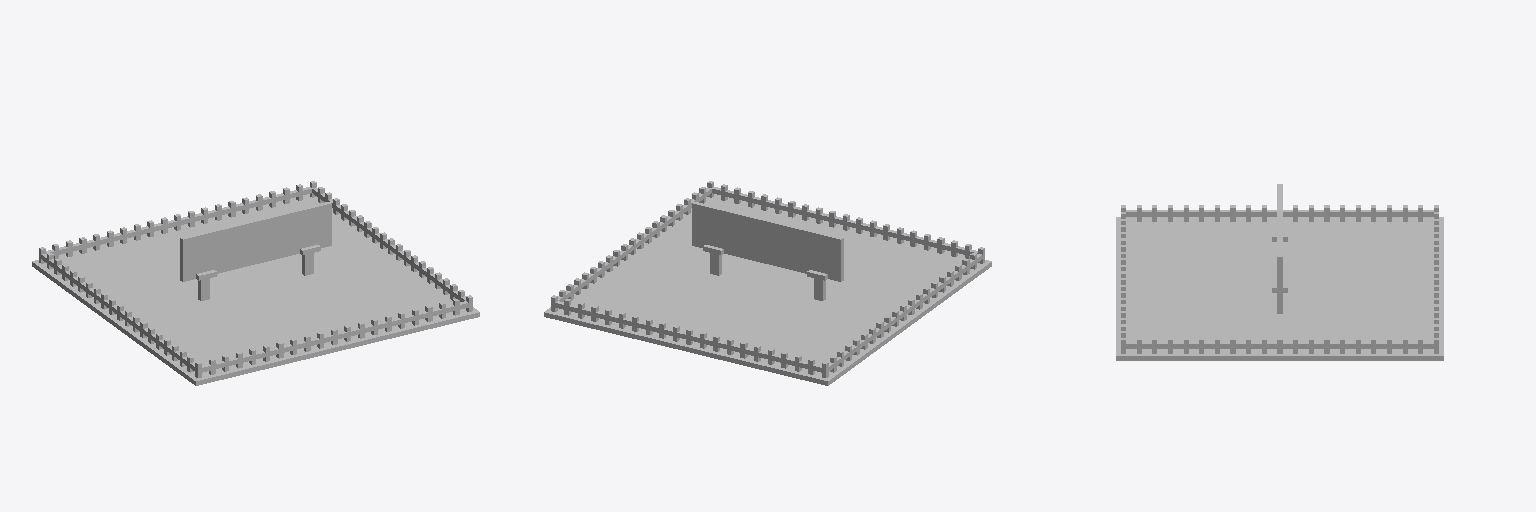
Rendered from Free Land.obj.
3 renders of one model, left to right at view 1: azimuth 30°, elevation 25°; view 2: azimuth 150°, elevation 25°; view 3: azimuth 270°, elevation 25°, orthographic.
Visible parts, largest first — view 1: Free Land; view 2: Free Land; view 3: Free Land.
Boxes of the visible parts, x1,y1,x2,y2 form: Free Land: [32, 181, 479, 385]; Free Land: [544, 181, 991, 385]; Free Land: [1116, 184, 1443, 360].
Size of the model in its own units: 63 by 15 by 63.